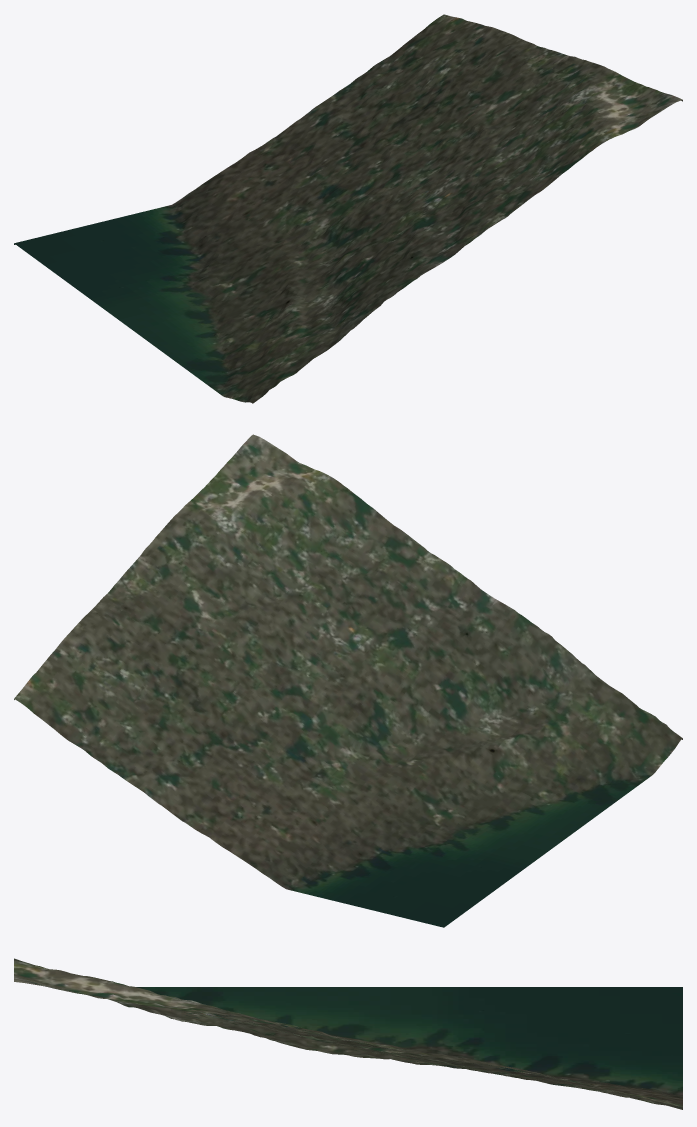
3 views of the same model, one above another, from view 1: azimuth 30°, elevation 25°; view 2: azimuth 150°, elevation 25°; view 3: azimuth 270°, elevation 25° (orthographic). The views are drawn at different scales.
Size of the model in its own units: 250 by 120 by 241.
Materials: 1 (1 with a texture image).
